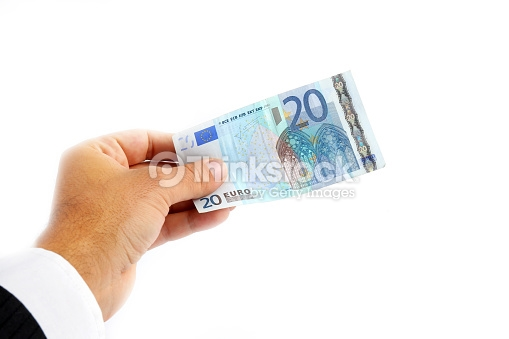billete: (170, 69, 389, 218)
